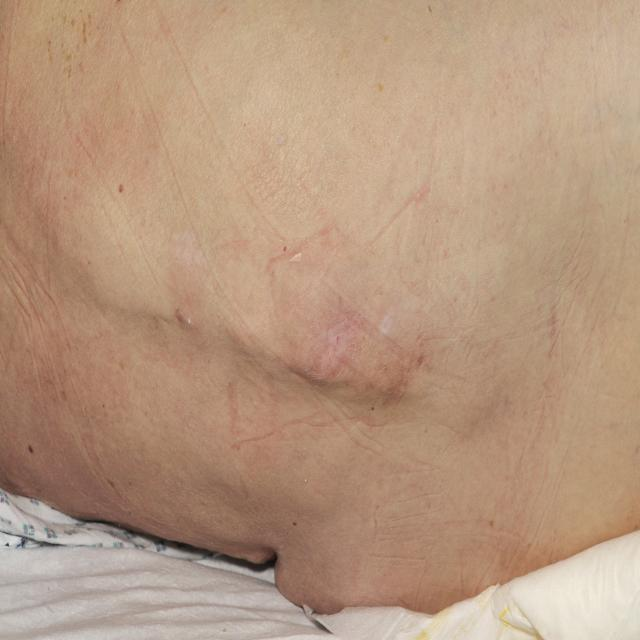wound: (112, 256, 463, 454)
